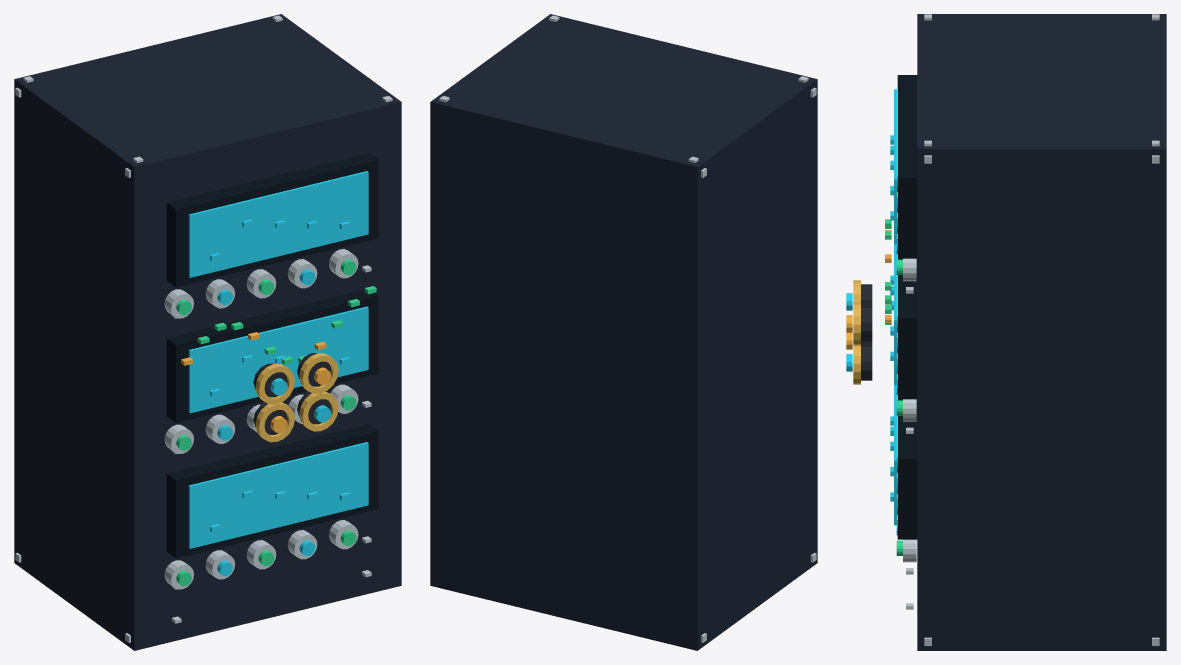
Rendered from 30_L82_HighDynamicRangeSpectrumAnalyzer.fbx.
3 views of the same model, side by side, from view 1: azimuth 30°, elevation 25°; view 2: azimuth 150°, elevation 25°; view 3: azimuth 270°, elevation 25° (orthographic). The views are drawn at different scales.
Parts seen in each view (by area): view 1: HighDynamicRangeSpectrumAnalyzer; view 2: HighDynamicRangeSpectrumAnalyzer; view 3: HighDynamicRangeSpectrumAnalyzer.
Boxes of the visible parts, left/top/right/bottom form: HighDynamicRangeSpectrumAnalyzer: left=14, top=14, right=401, bottom=650; HighDynamicRangeSpectrumAnalyzer: left=430, top=14, right=817, bottom=650; HighDynamicRangeSpectrumAnalyzer: left=846, top=14, right=1166, bottom=650.
Bounding box in the file's own units: 106 × 182 × 104.
